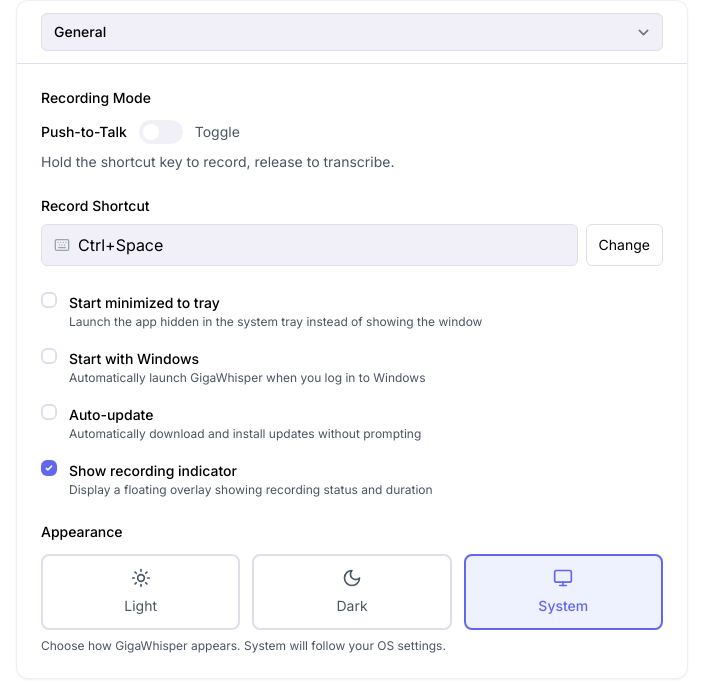
Test: SettingsPanel › Tab Navigation › should switch to Audio tab when selected
This screenshot has width=705, height=696.
Select "Audio" in the dropdown with test id "tab-selector" at (352, 32), box [41,13,663,51]
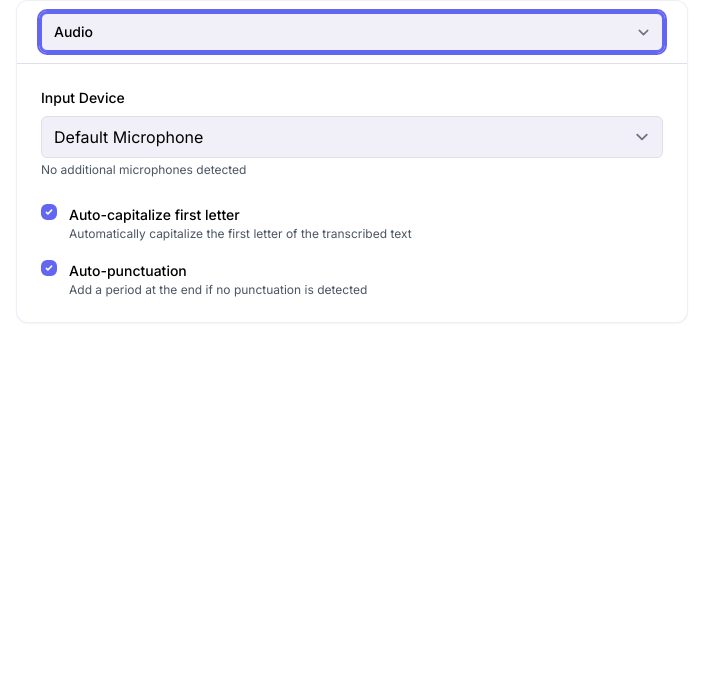
Now the text "Input Device" is shown, box [41,89,125,106]
